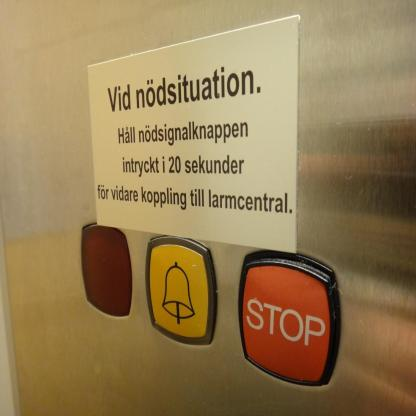alarm: (143, 232, 219, 350)
empty: (79, 222, 134, 320)
text_stop: (236, 246, 343, 389)
